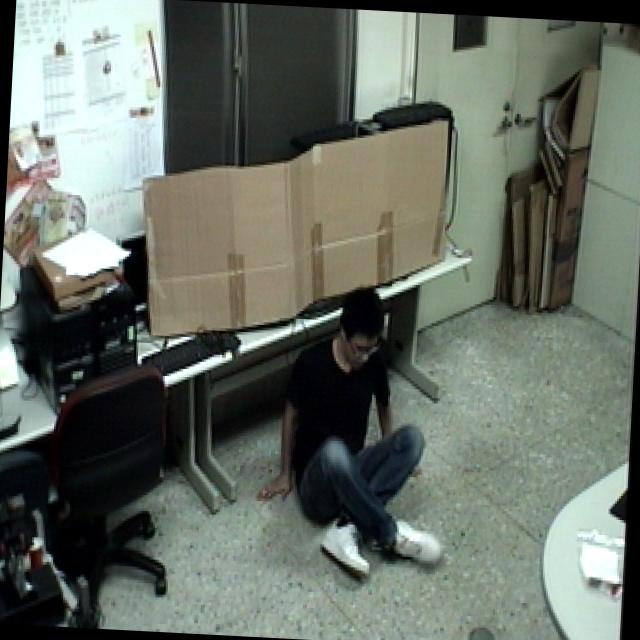sit: (253, 273, 470, 596)
